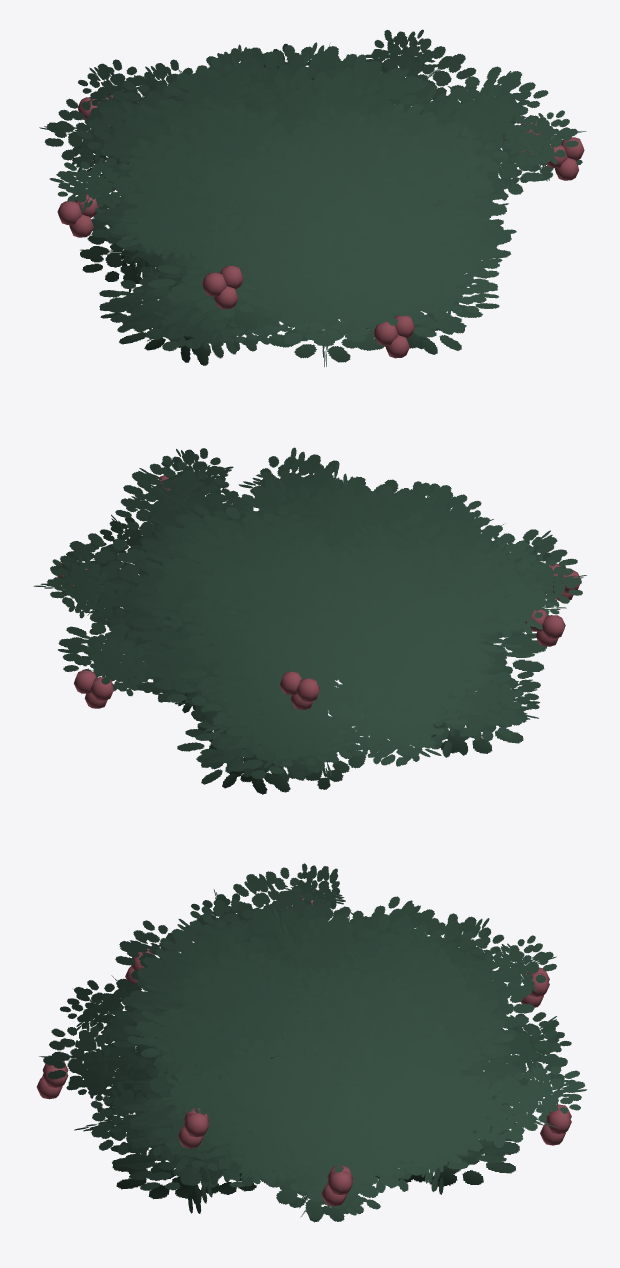
File: berry-bush-low-thicket.glb
3 renders of one model, top to bottom at view 1: azimuth 30°, elevation 25°; view 2: azimuth 150°, elevation 25°; view 3: azimuth 270°, elevation 25°, orthographic. The views are drawn at different scales.
Visible parts, largest first — view 1: berry-bush-low-thicket runtime mesh; view 2: berry-bush-low-thicket runtime mesh; view 3: berry-bush-low-thicket runtime mesh.
Boxes of the visible parts, x1,y1,x2,y2 form: berry-bush-low-thicket runtime mesh: (39,29,586,366); berry-bush-low-thicket runtime mesh: (33,447,586,794); berry-bush-low-thicket runtime mesh: (36,863,586,1222).
Size of the model in its own units: 1.58 by 0.819 by 1.5.
Materials: 2 (1 with a texture image).
